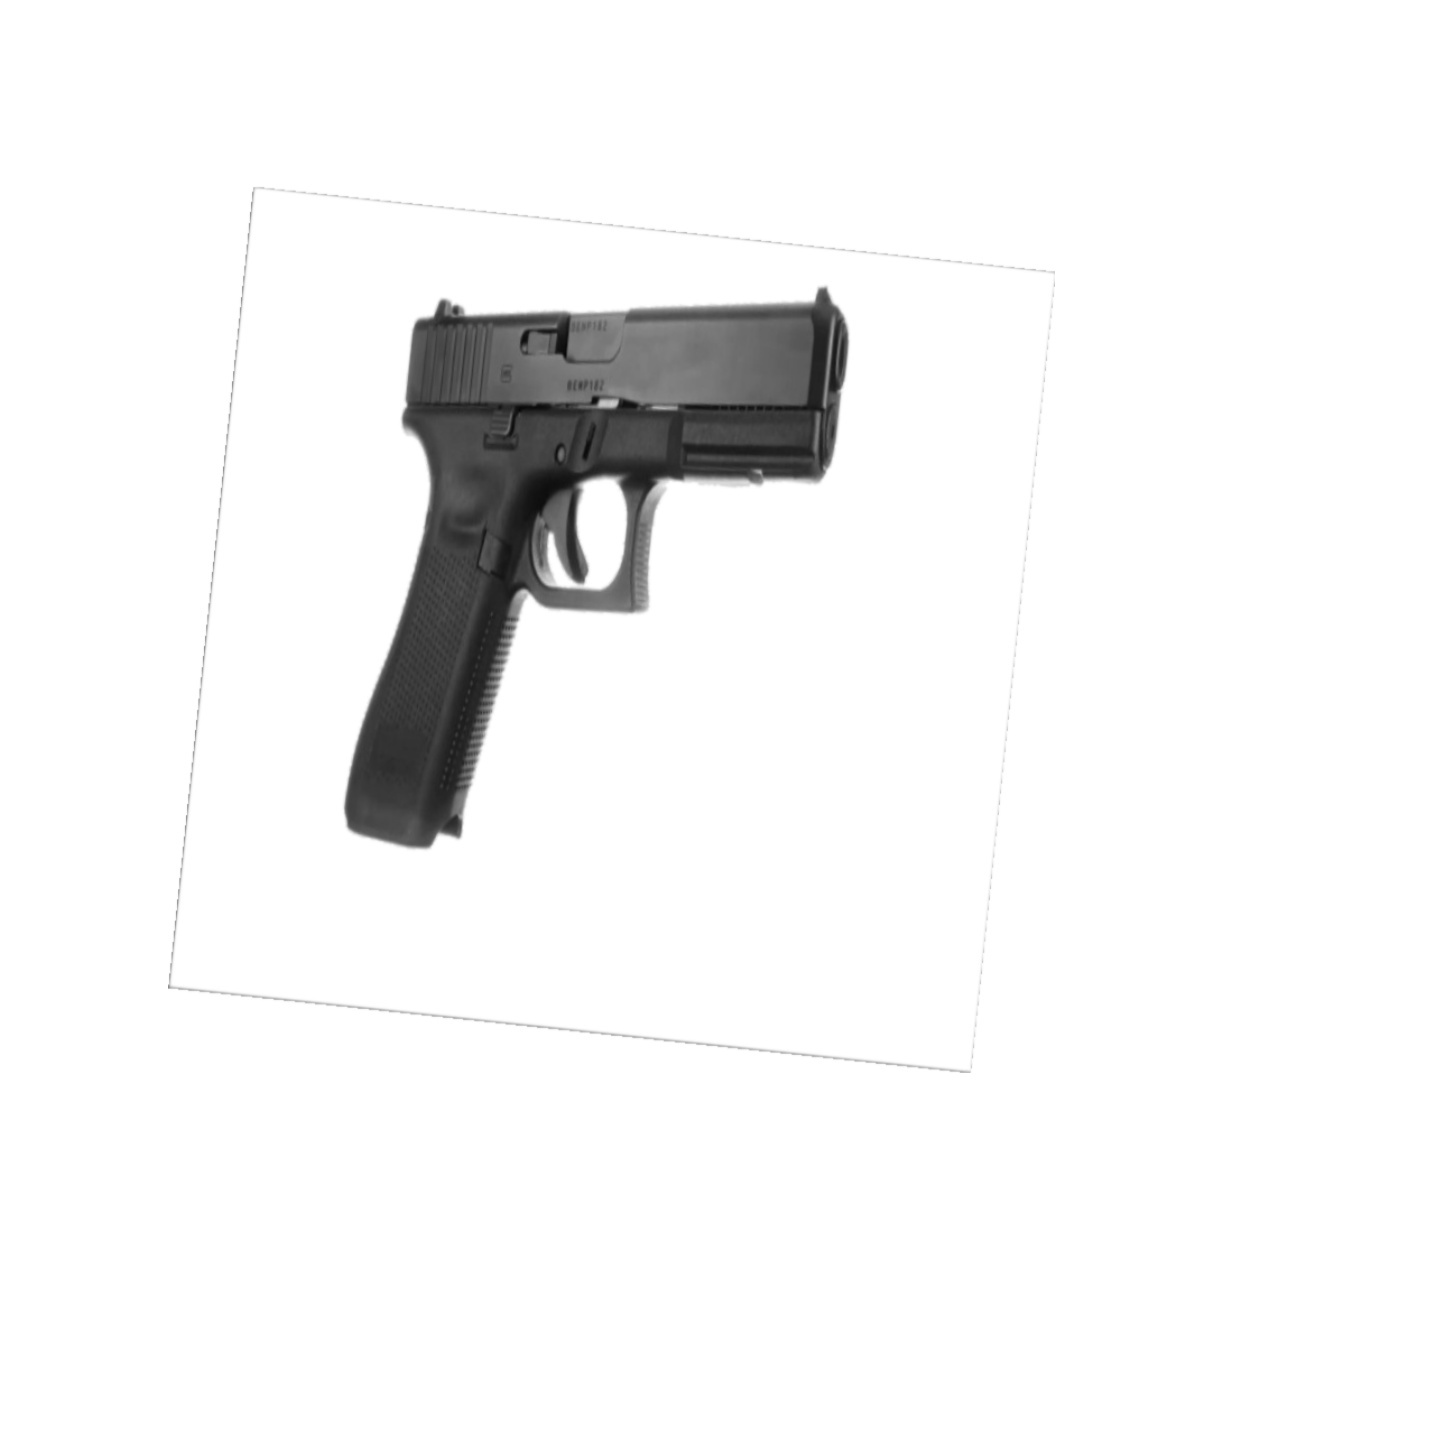gun: (342, 282, 859, 847)
